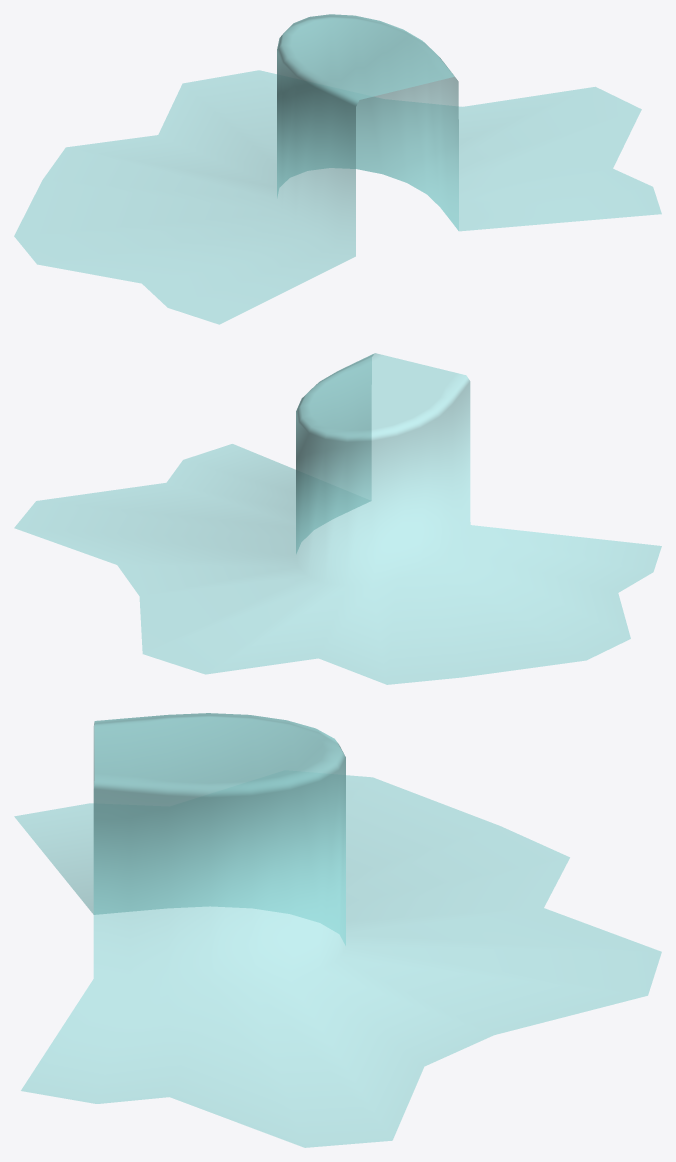
File: Toilet_Water.fbx
3 views of the same model, one above another, from view 1: azimuth 30°, elevation 25°; view 2: azimuth 150°, elevation 25°; view 3: azimuth 270°, elevation 25° (orthographic). The views are drawn at different scales.
Visible parts, largest first — view 1: pCylinder62; view 2: pCylinder62; view 3: pCylinder62.
Boxes of the visible parts, x1,y1,x2,y2 form: pCylinder62: (14,14,661,324); pCylinder62: (14,353,661,684); pCylinder62: (14,713,661,1147).
Bounding box in the file's own units: 910 × 226 × 660.
